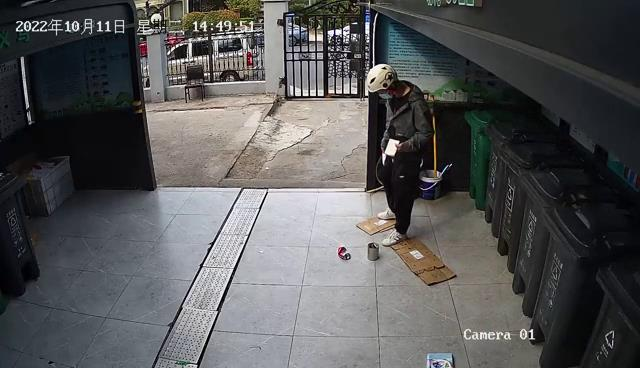lvzhipin: (335, 241, 352, 263), (366, 240, 382, 263)
person: (361, 60, 438, 249)
zhizhipin: (390, 235, 460, 289), (355, 211, 399, 236)
